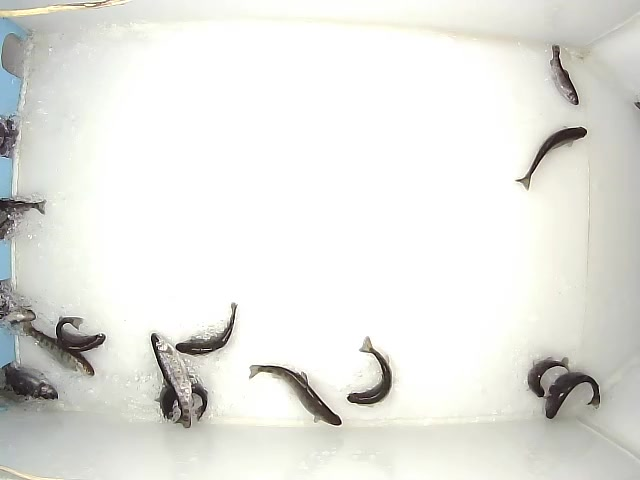fish: (248, 364, 342, 427), (514, 124, 588, 192), (20, 318, 96, 378), (150, 331, 193, 429), (175, 300, 239, 357), (346, 335, 394, 408), (544, 371, 601, 420), (154, 376, 209, 423), (2, 366, 60, 401), (524, 355, 571, 398), (549, 44, 580, 107), (54, 315, 106, 352)
